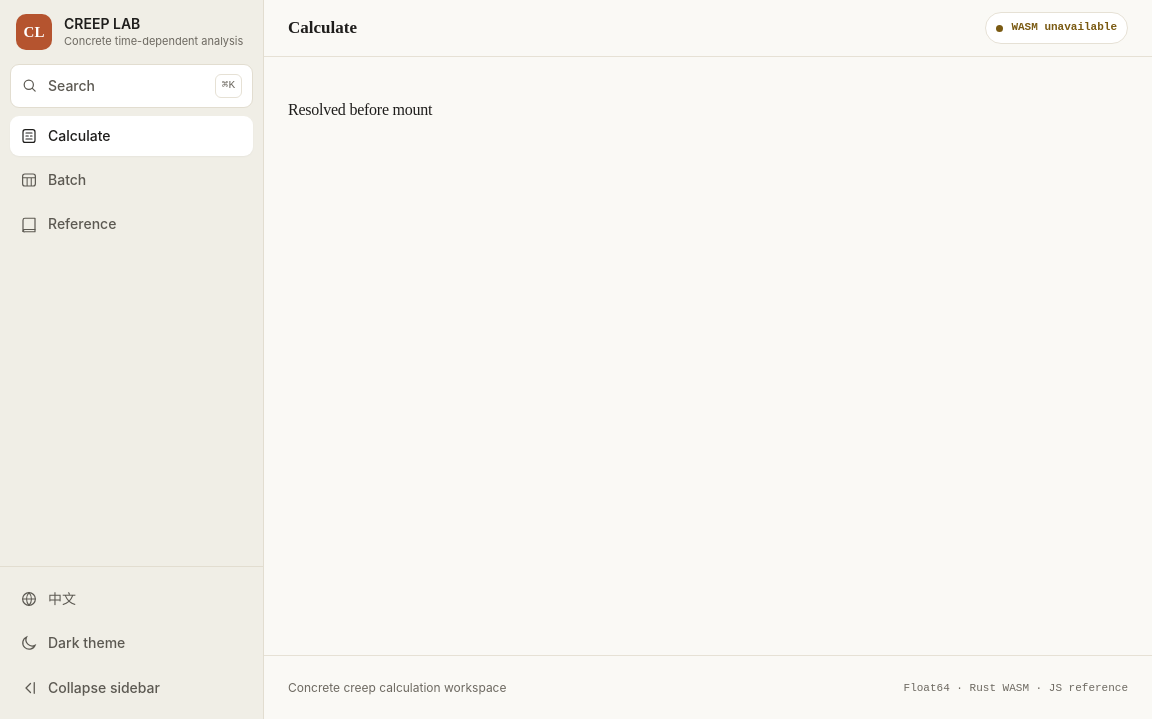
Test: renders the workspace the entry point already resolved, without a spinner
Expected: the heading "Resolved before mount" is shown, [288,101,432,118]
Step 1. Click the button "Batch" → {"x": 132, "y": 180}, box [10,160,253,200]
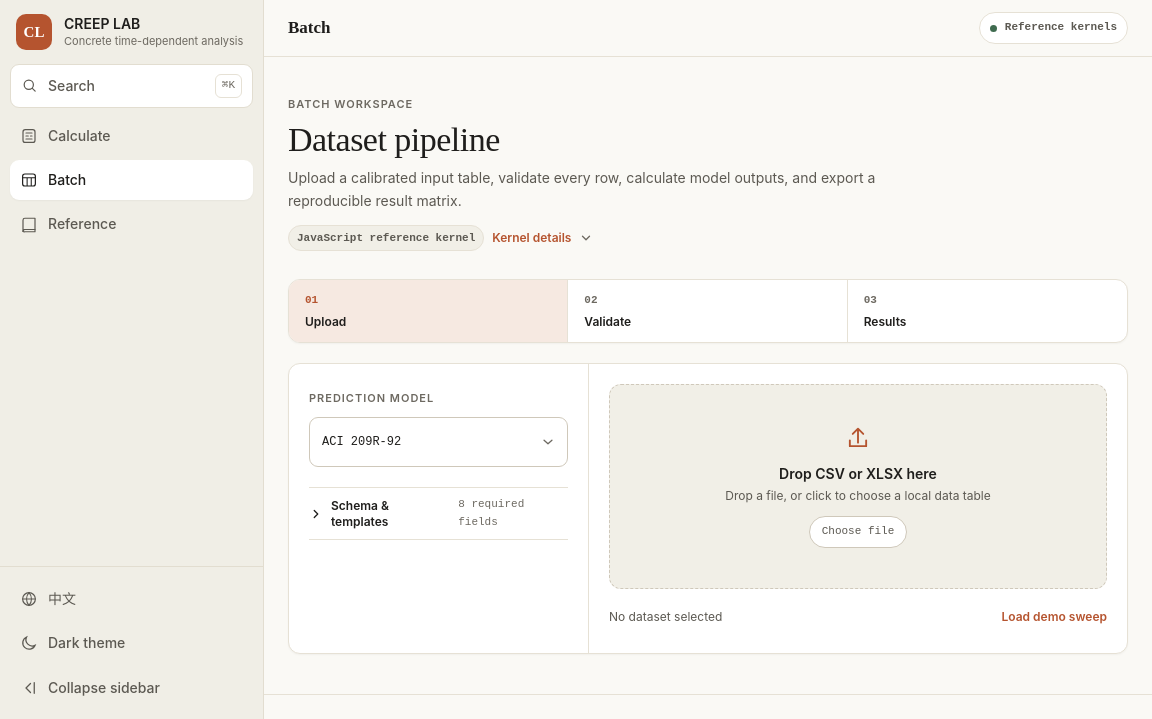
Now the heading "Dataset pipeline" is shown, box [288,121,500,158]
